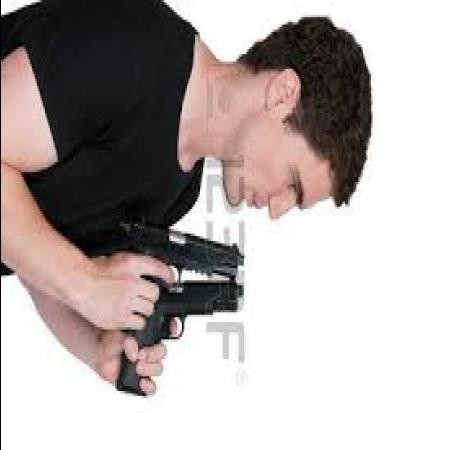Pistol: (116, 276, 243, 393), (116, 209, 244, 283)
